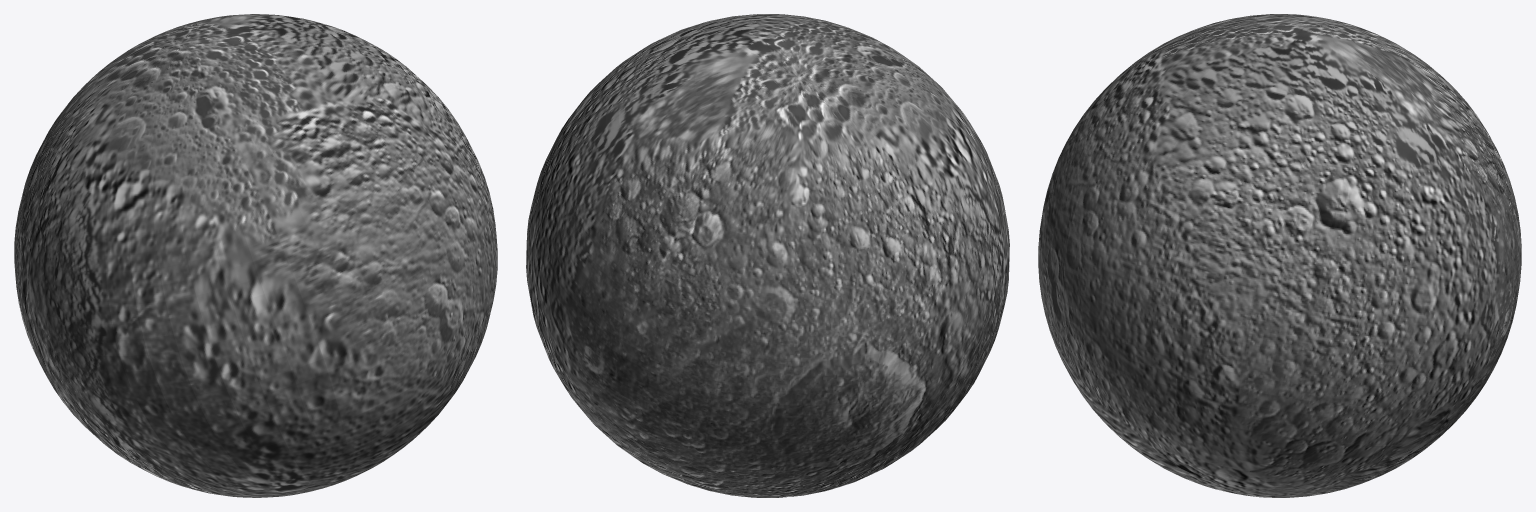
Rendered from mimas.obj.
The picture shows the model from 3 angles, left to right: view 1: azimuth 30°, elevation 25°; view 2: azimuth 150°, elevation 25°; view 3: azimuth 270°, elevation 25°; orthographic projection.
Parts seen in each view (by area): view 1: Plane; view 2: Plane; view 3: Plane.
Part boxes in pixels (x1=…): Plane: x1=14, y1=14, x2=497, y2=497; Plane: x1=526, y1=14, x2=1009, y2=497; Plane: x1=1038, y1=14, x2=1521, y2=497.
Bounding box in the file's own units: 2.61 × 2.61 × 2.61.
1 material, 1 textured.
